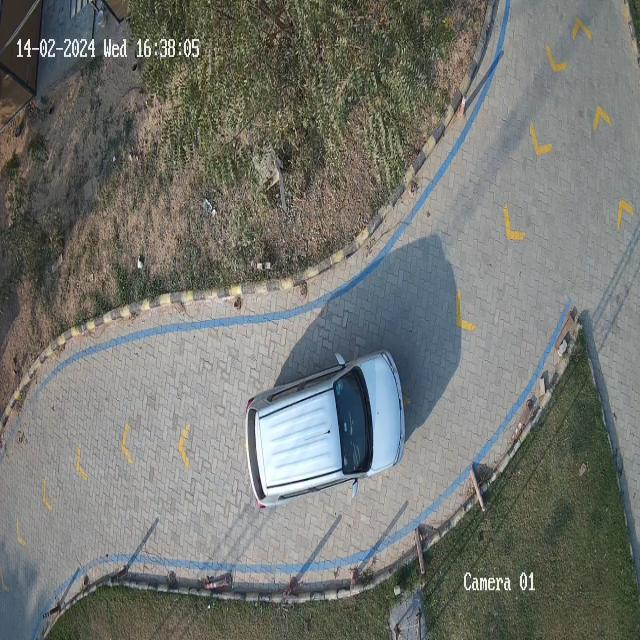car: (242, 352, 407, 510)
